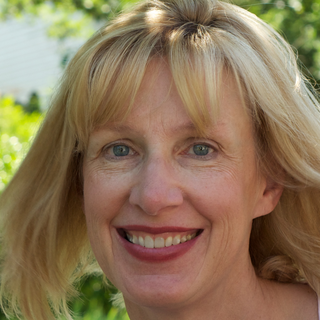eye: (178, 138, 226, 164), (98, 139, 144, 164)
